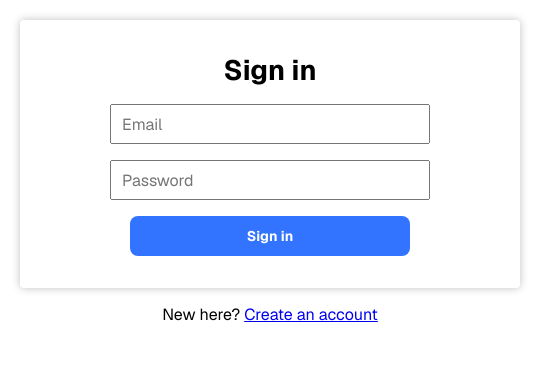
Scenario: SignInForm › should display an error if the user leaves some fields missing but attempts to submit
Expected: the text "Sign in" is shown, [223,52,317,88]
Expected: the password field with placeholder "Password" is shown, [110,160,430,200]
In the field with placeholder "Email": (270, 124) [110,104,430,144], type "user@domain.com"
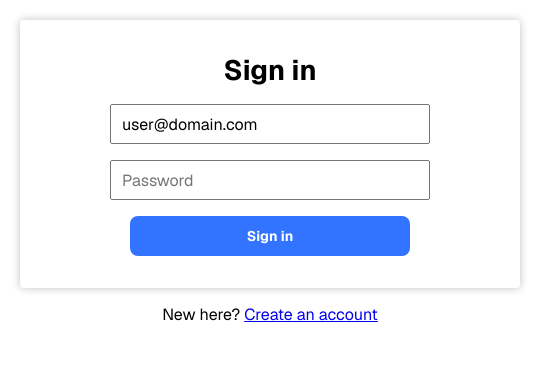
Click the button "Sign in": (270, 236) [130,216,410,256]
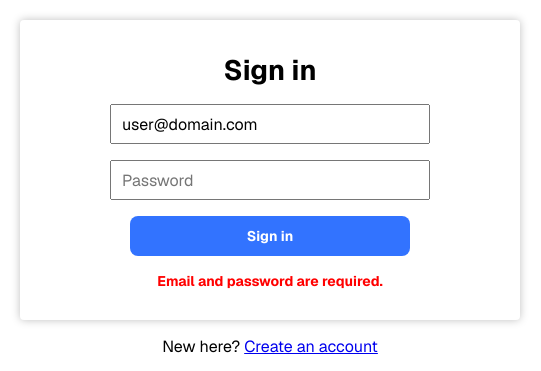
Result: the text "Email and password are required." is shown at [157,272,383,290]
